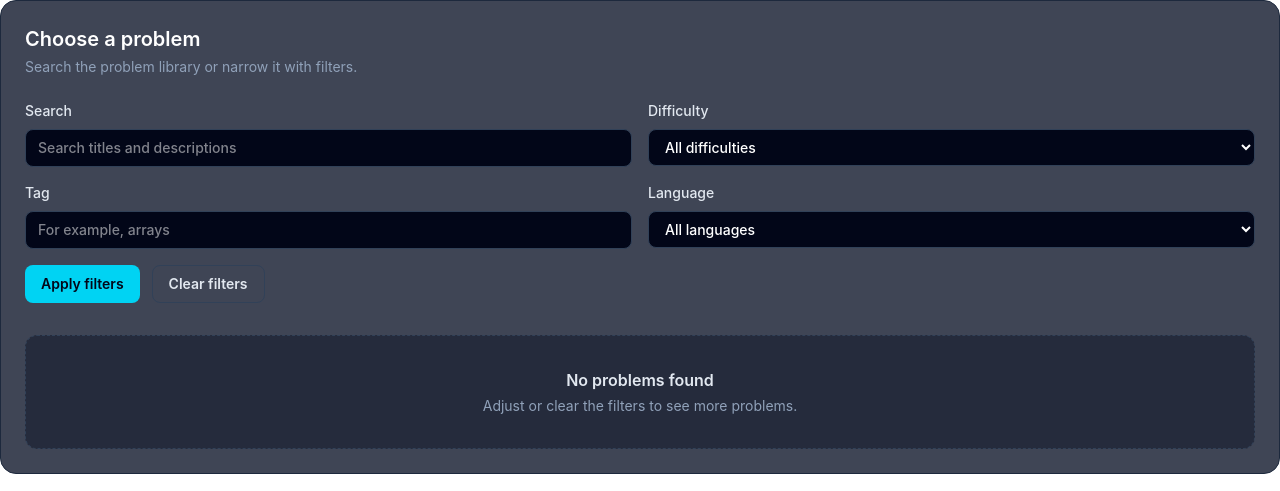
ProblemSelector › shows an empty state and can clear active filters
The image size is (1280, 491).
Expected: the text "No problems found" is shown, [566,370,714,390]
Type "missing" into the search field labelled "Search" at (328, 148), box [25,129,632,167]
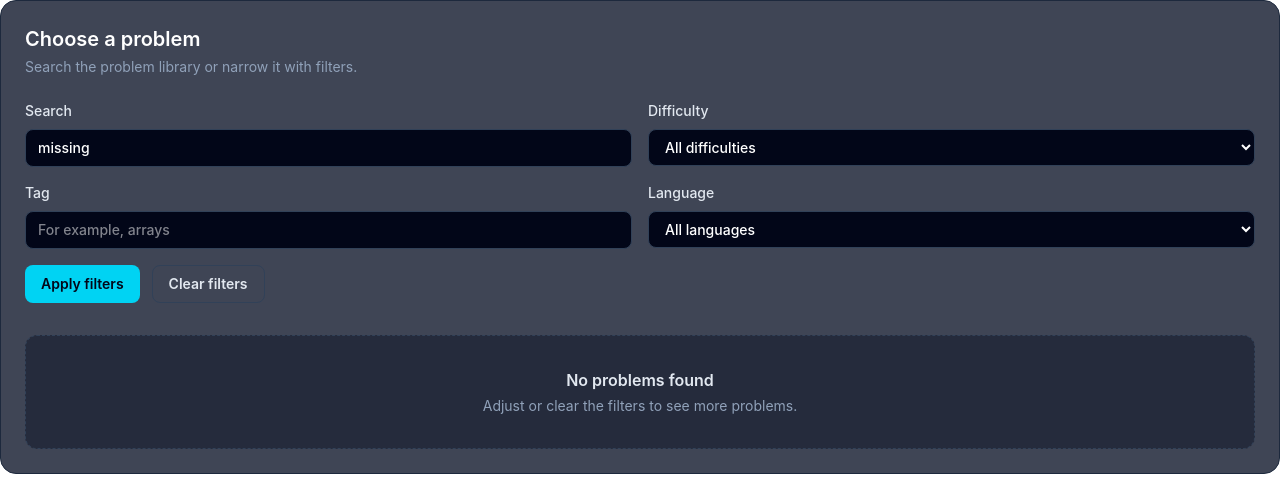
Click the button "Apply filters" at (82, 284), box [25,265,140,303]
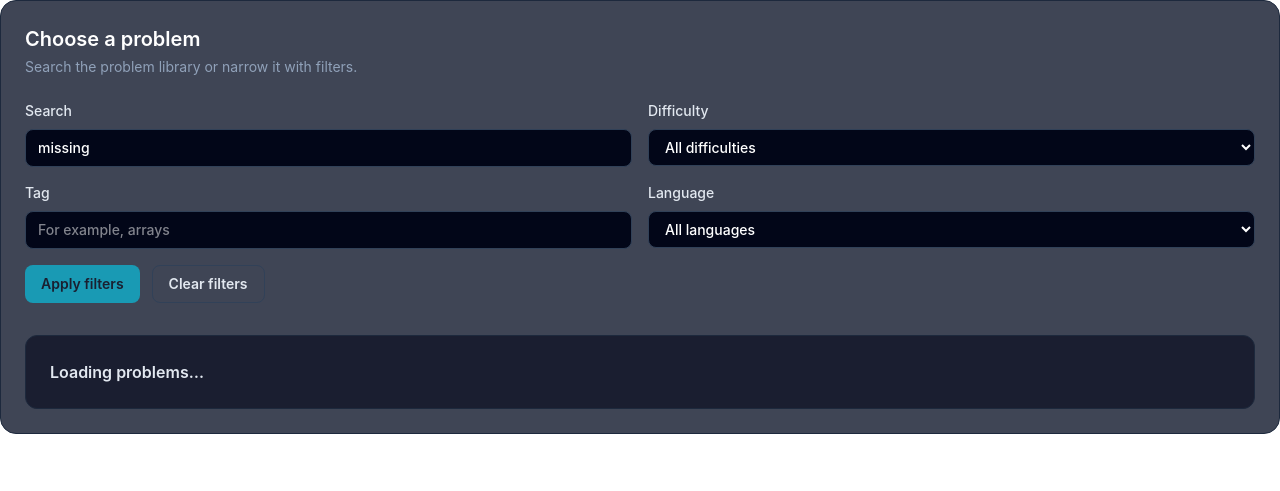
Click the button "Clear filters" at (208, 284), box [152,265,264,303]
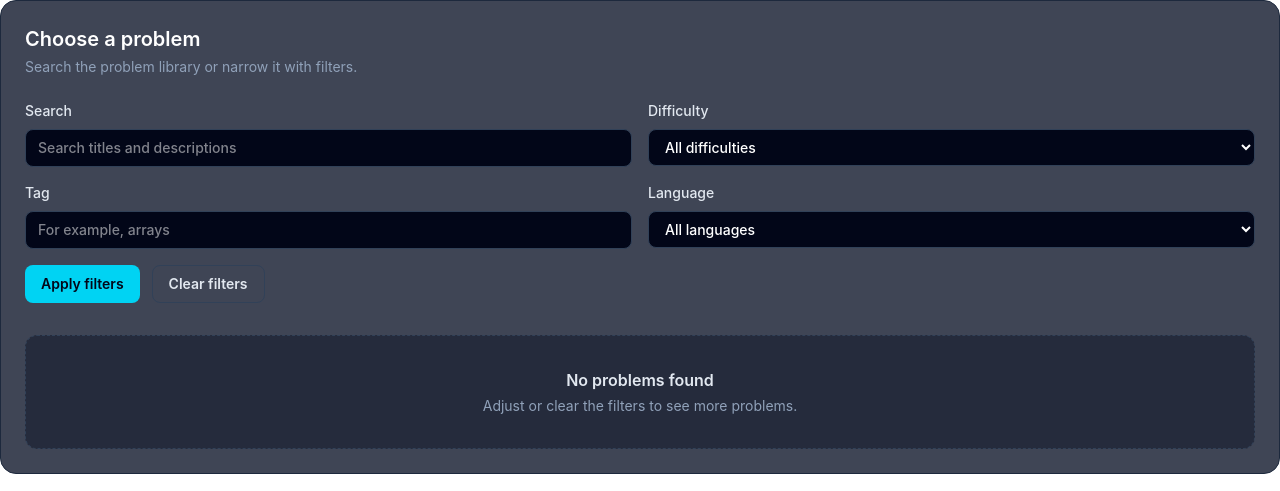
Now the search field labelled "Search" is empty, box [25,129,632,167]
